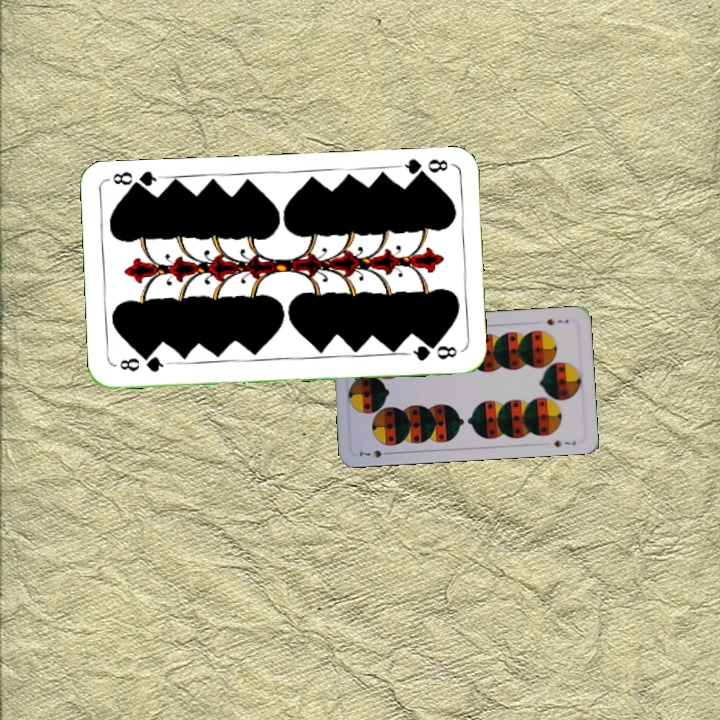G8: (394, 155, 453, 182), (115, 352, 171, 375)
S7: (355, 445, 394, 460), (543, 314, 571, 328)
